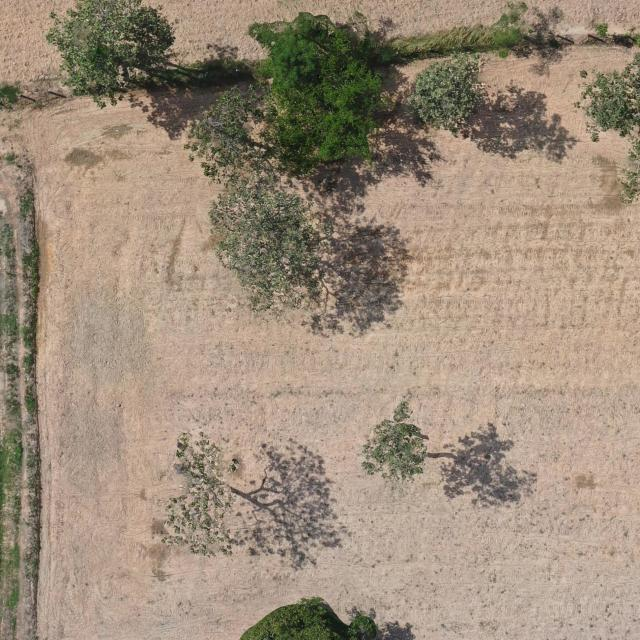Tree: (246, 10, 398, 180), (206, 172, 338, 320), (43, 0, 177, 111), (572, 0, 640, 206), (159, 430, 242, 560), (183, 83, 284, 186), (229, 594, 379, 640), (405, 47, 486, 132), (360, 400, 430, 485)
